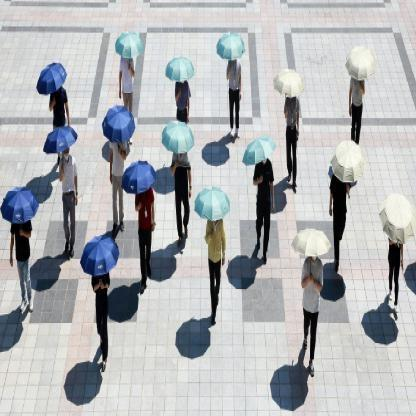Umbrella: (324, 132, 374, 188), (68, 233, 138, 272), (377, 188, 416, 253), (116, 156, 160, 203), (4, 178, 45, 227), (211, 19, 252, 66), (268, 60, 310, 104), (158, 116, 196, 164), (36, 58, 75, 104), (100, 102, 138, 148), (42, 121, 84, 162), (342, 37, 380, 82), (111, 21, 146, 63), (286, 232, 331, 262), (190, 189, 230, 221), (240, 138, 278, 170), (166, 56, 208, 80)
